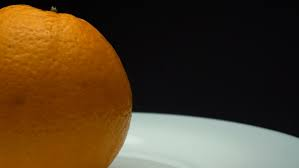orange: (1, 1, 136, 168)
